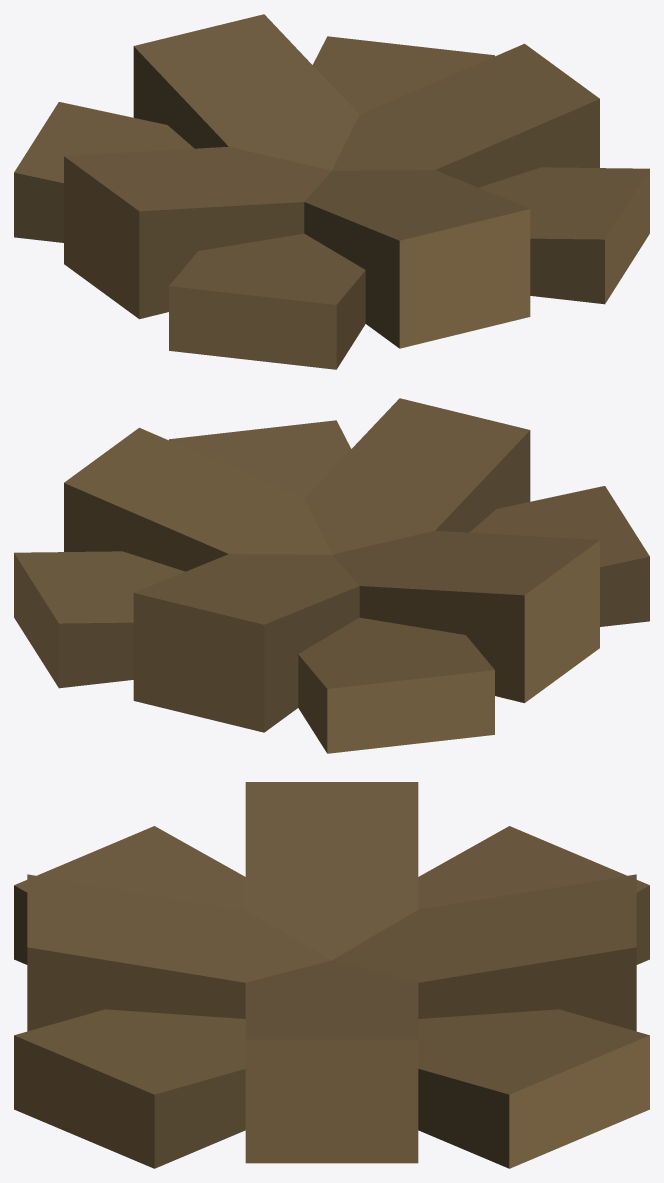
Rendered from Campfire_01.obj.
3 renders of one model, top to bottom at view 1: azimuth 30°, elevation 25°; view 2: azimuth 150°, elevation 25°; view 3: azimuth 270°, elevation 25°, orthographic. The views are drawn at different scales.
Parts seen in each view (by area): view 1: Mesh1_Campfire_Model; view 2: Mesh1_Campfire_Model; view 3: Mesh1_Campfire_Model.
Part boxes in pixels (x1,y1,x2,y2): Mesh1_Campfire_Model: (14, 14, 649, 369); Mesh1_Campfire_Model: (14, 398, 649, 753); Mesh1_Campfire_Model: (14, 782, 649, 1168).
Bounding box in the file's own units: 0.6993 × 0.15 × 0.6993.
